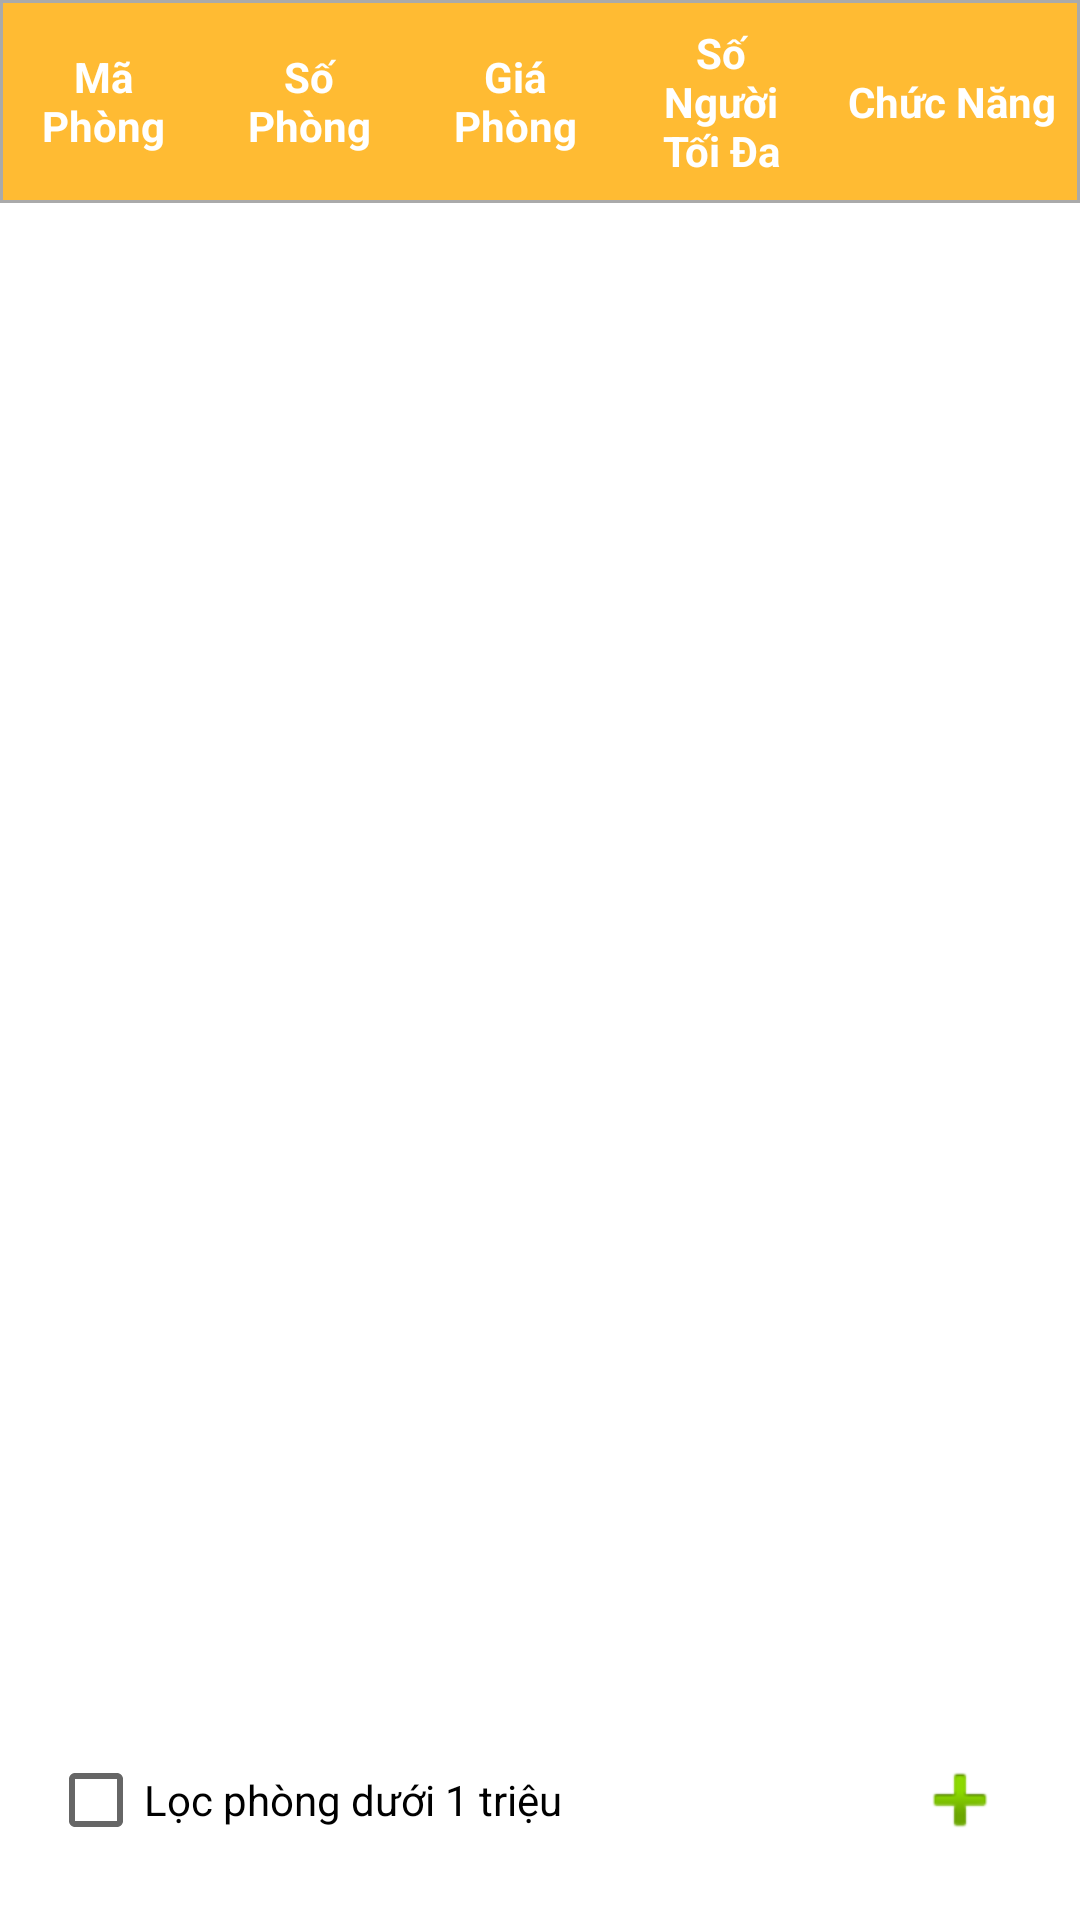

Named icons in this screenshot (1080px x 1920px) and their centers, (x=x, y=y):
Add Room: (x=960, y=1800)
